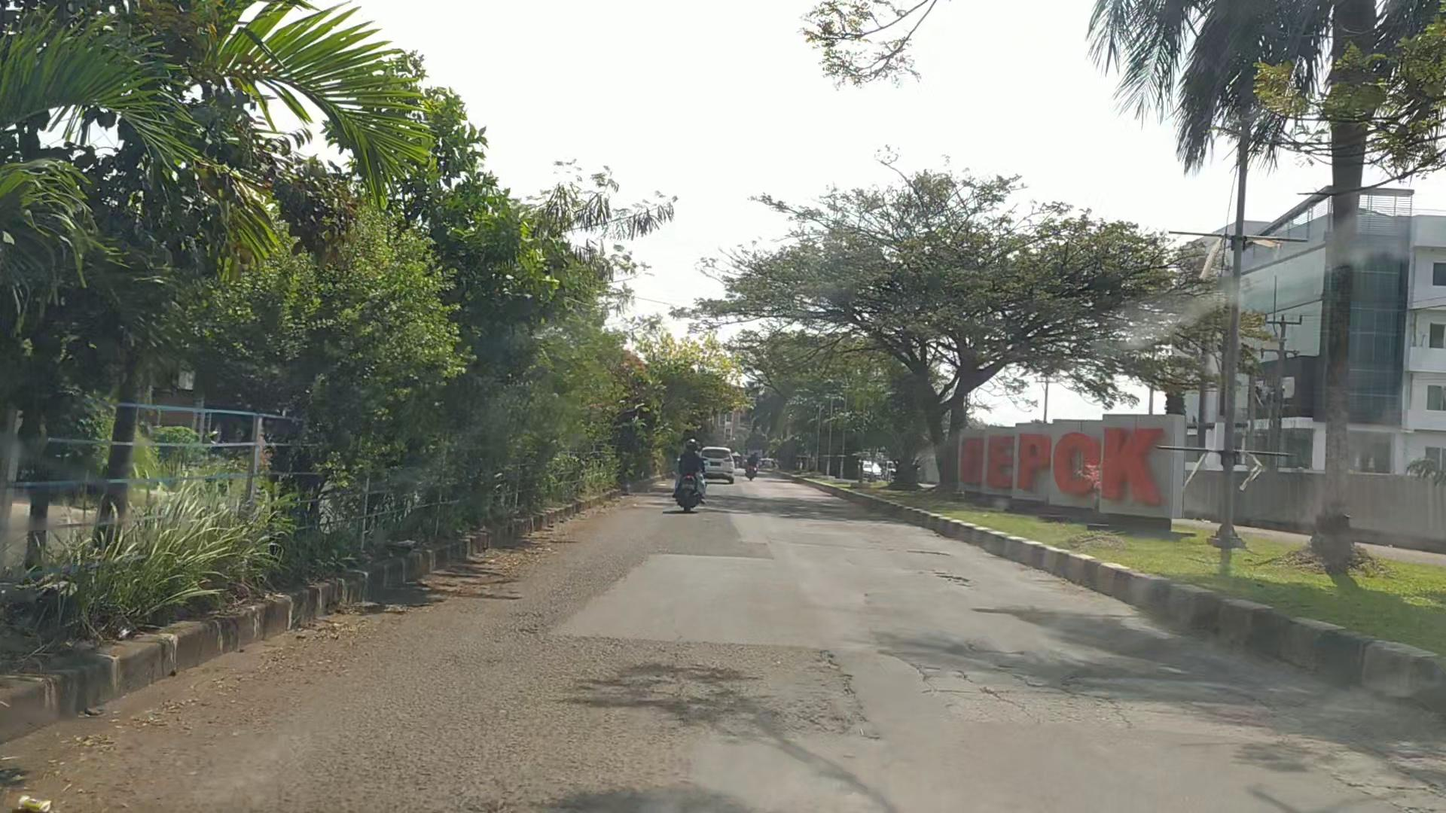pothole: (815, 648, 841, 671), (937, 575, 972, 585), (906, 550, 952, 556)
